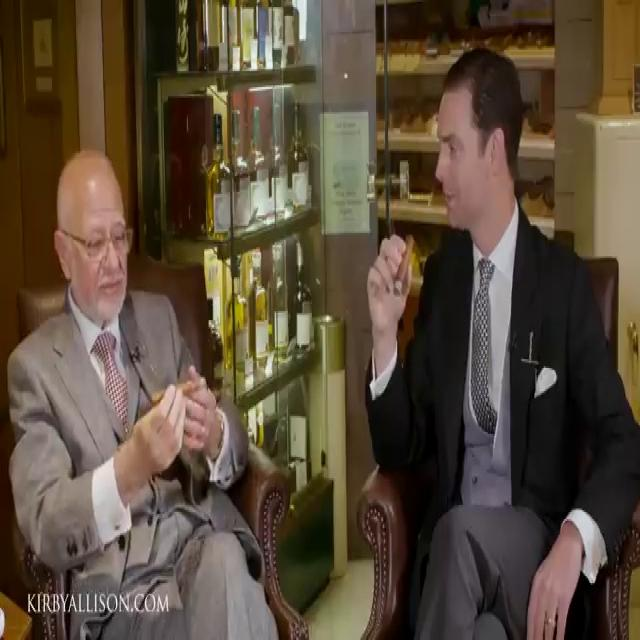Smooking: (135, 366, 216, 406), (392, 231, 419, 302)
